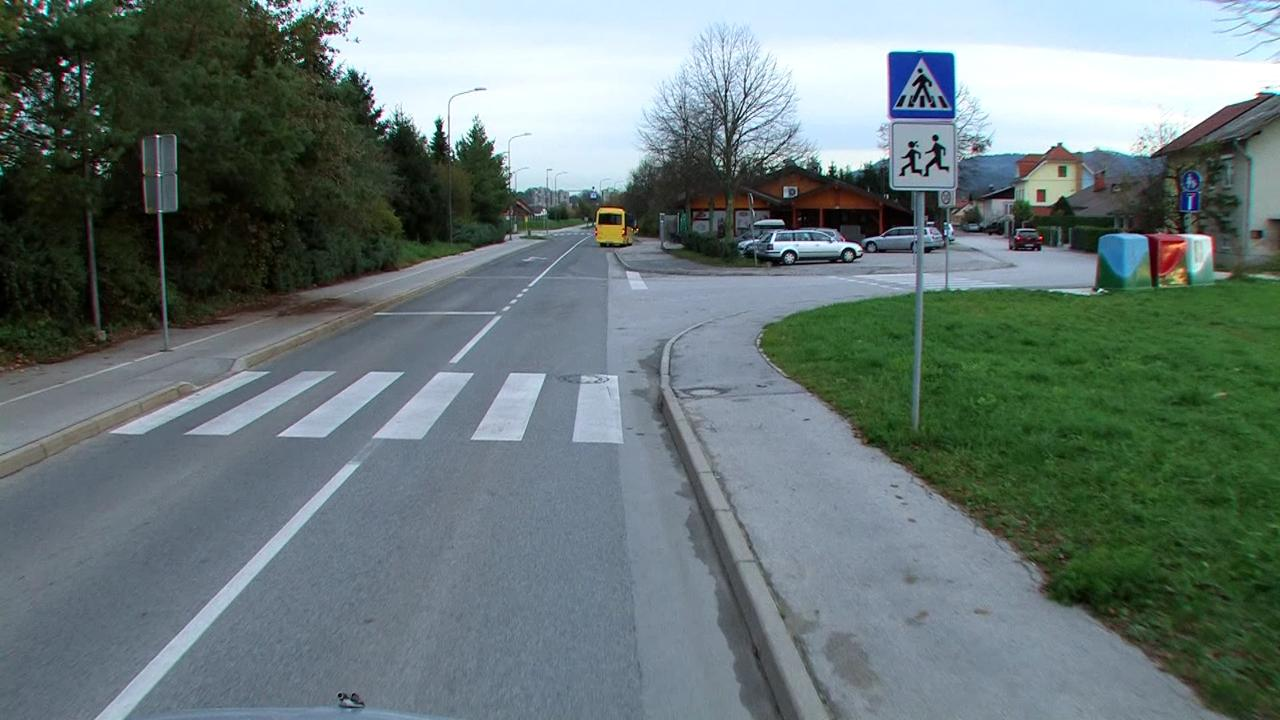Rectangle: (890, 121, 956, 192)
Round: (1180, 170, 1200, 192)
Squared: (886, 51, 958, 121), (1176, 190, 1200, 214)
